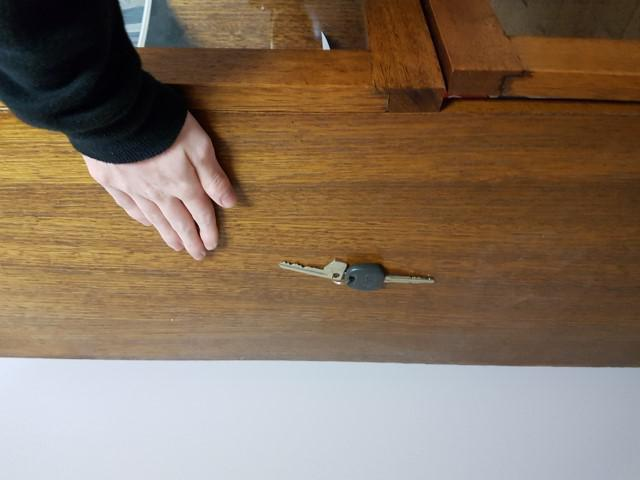key: (345, 263, 435, 290)
